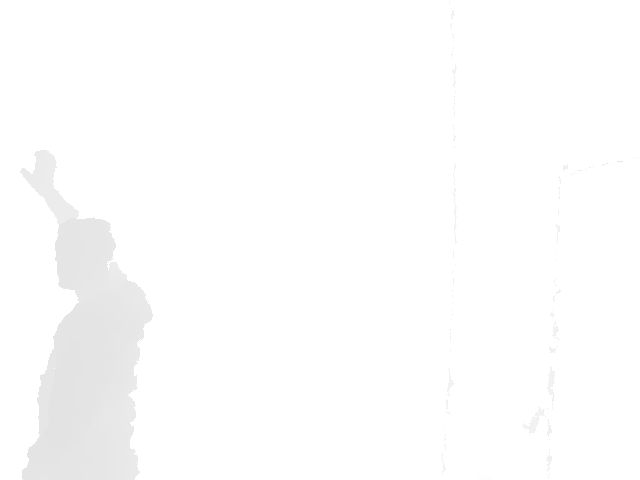hand: (19, 150, 58, 189)
head: (54, 217, 117, 290)
person: (19, 149, 154, 480)
